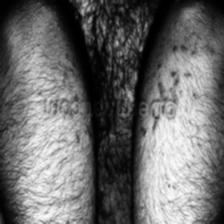Unclassified: (86, 44, 110, 92), (104, 144, 132, 184)
